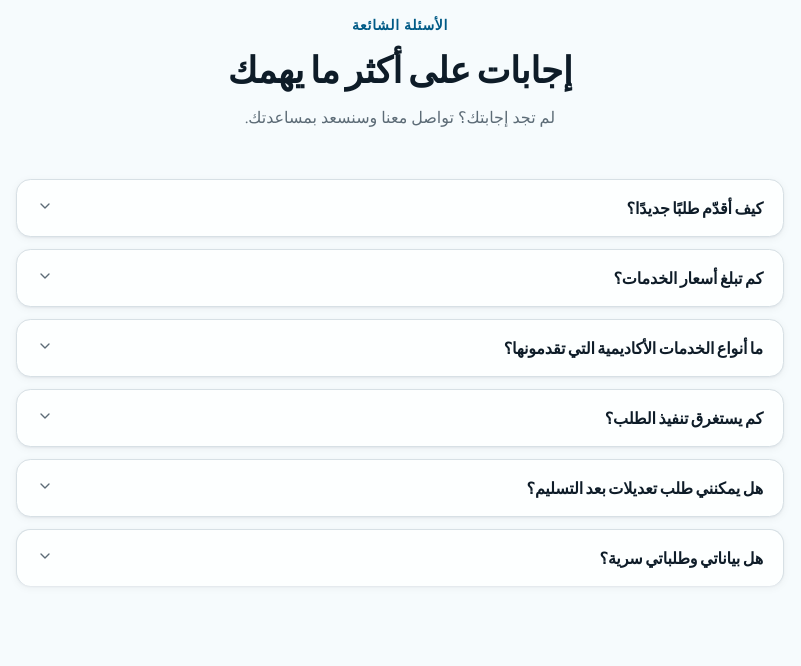
Test: home page sections › opens and closes a FAQ answer
Step 1. Click the button "كيف أقدّم طلبًا جديدًا؟" → x=695, y=208, box [37,180,763,236]
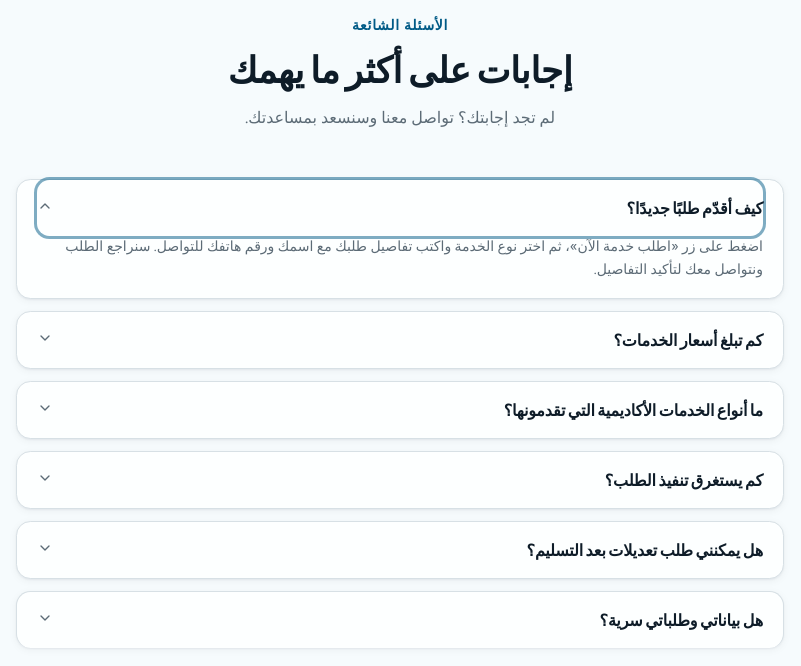
Now the button "كيف أقدّم طلبًا جديدًا؟" is expanded
Now the text "اضغط على زر «اطلب خدمة الآن»" is shown, box [65,238,763,278]
Step 2. Click the button "كيف أقدّم طلبًا جديدًا؟" → x=695, y=208, box [37,180,763,236]
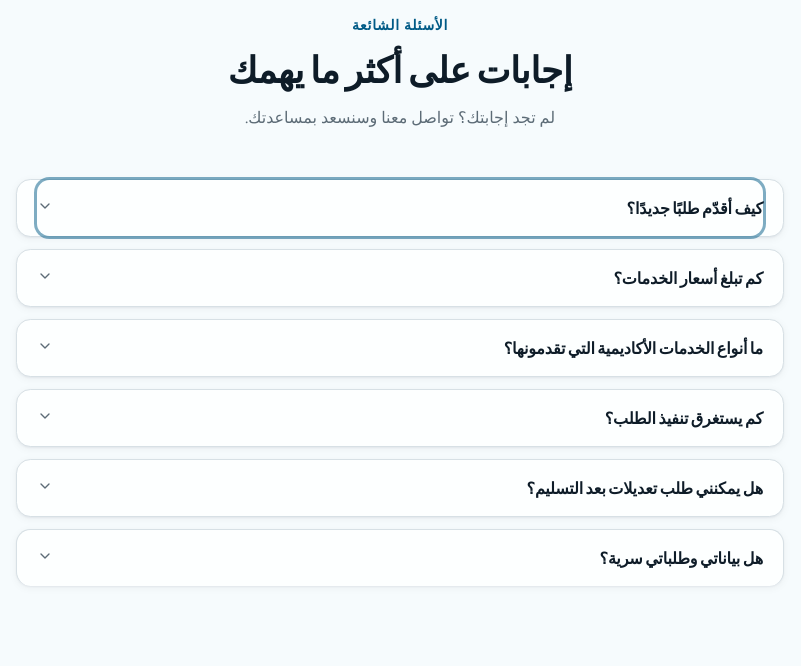
Now the button "كيف أقدّم طلبًا جديدًا؟" is collapsed, box [37,180,763,236]
